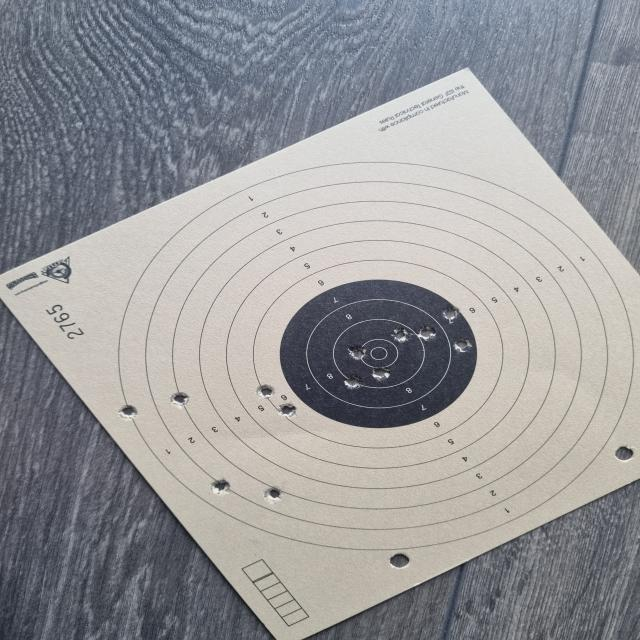1: (118, 404, 138, 420)
10: (344, 374, 362, 390), (390, 328, 410, 342)
2: (372, 366, 391, 380), (348, 346, 367, 360)
3: (210, 479, 230, 495)
4: (170, 392, 190, 407), (263, 488, 282, 502)
7: (278, 402, 298, 418), (256, 384, 274, 400)
8: (453, 338, 472, 352), (442, 308, 460, 320)
9: (418, 326, 437, 341)
Black Contour: (280, 278, 479, 430)
Target: (116, 159, 634, 552)
